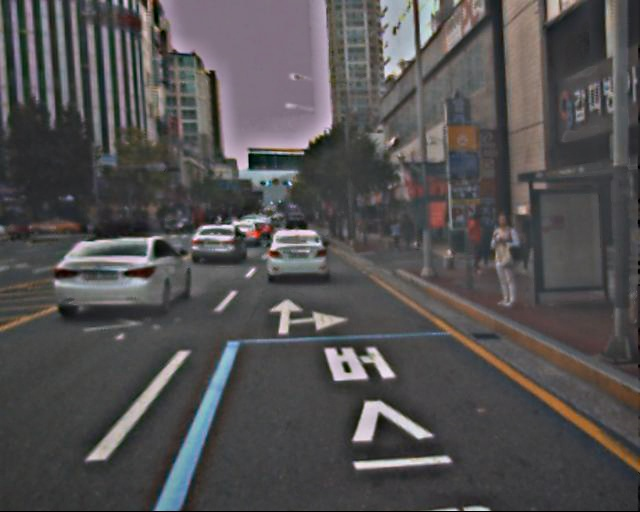person: (483, 211, 523, 308), (462, 214, 488, 278), (399, 212, 415, 251), (389, 218, 401, 248)
